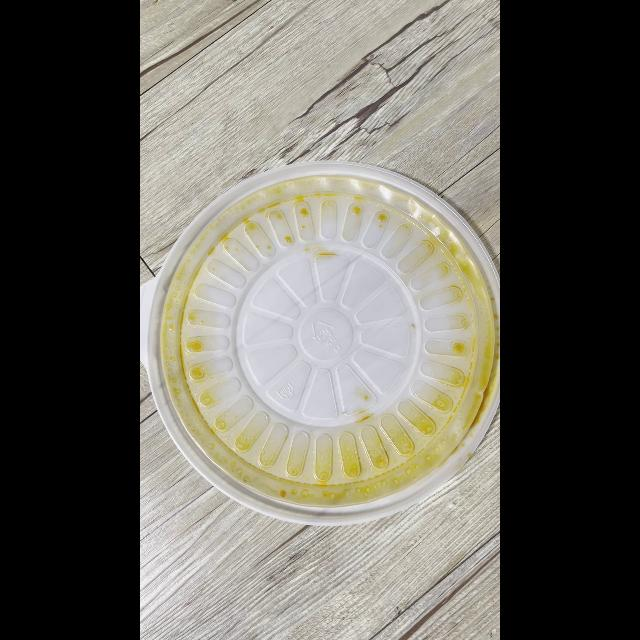dirty: (158, 172, 500, 516)
